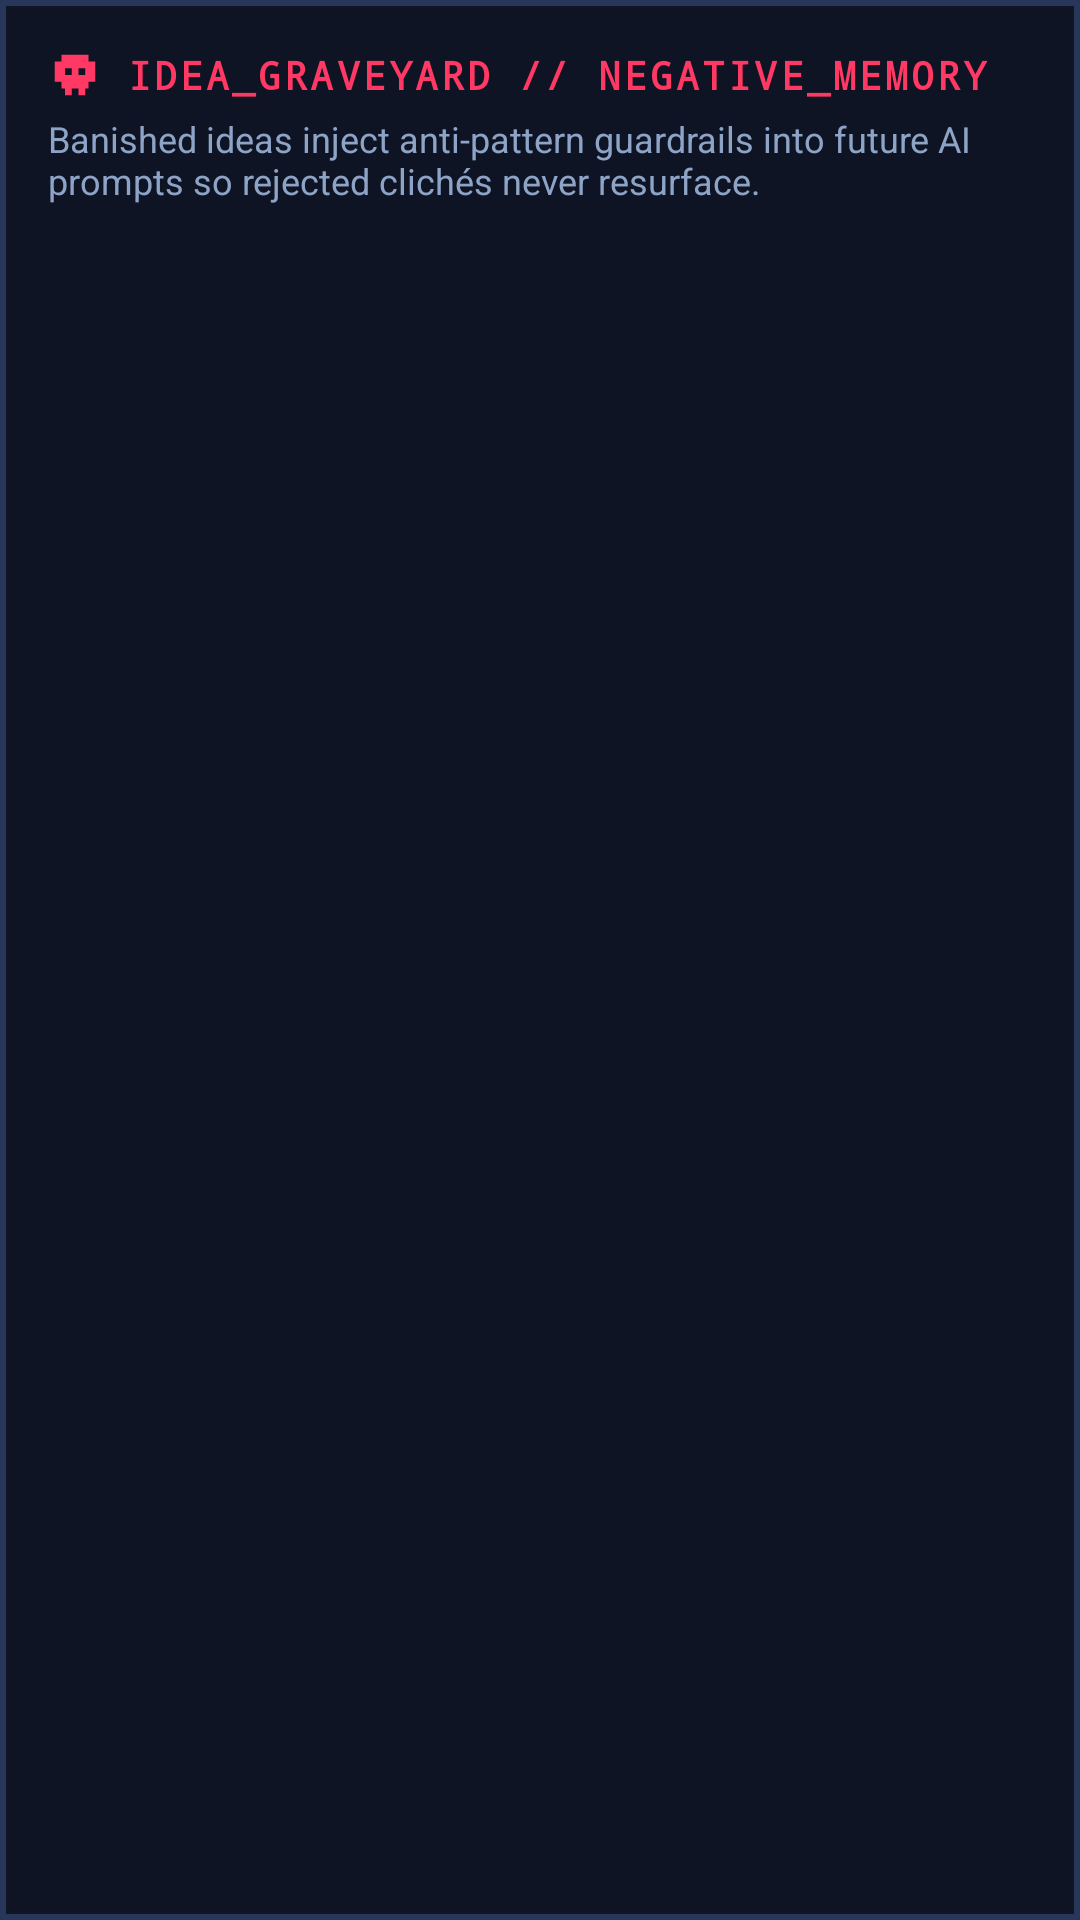

Where icons sit on this 1080w x 1920h app screen, as (x1, y1, x2, y2):
skull: (54, 54, 96, 96)
